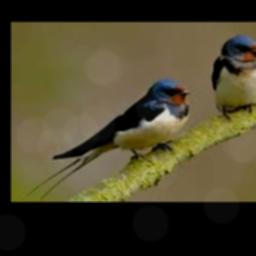Swallow: (27, 79, 192, 199), (211, 35, 256, 115)
